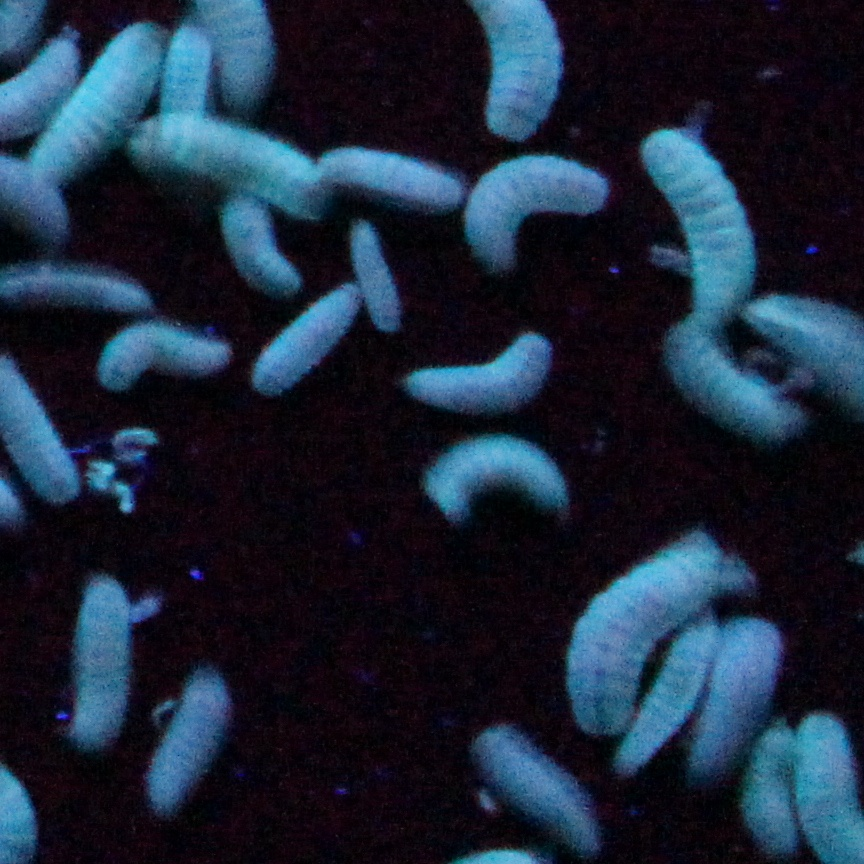larve: (566, 523, 742, 744), (19, 23, 170, 186), (651, 133, 753, 313), (450, 161, 609, 265), (622, 616, 721, 765), (141, 114, 312, 200), (674, 319, 786, 444), (697, 620, 784, 776), (476, 732, 597, 844), (257, 266, 353, 396), (436, 433, 563, 512), (412, 332, 546, 405), (316, 145, 468, 209), (164, 666, 224, 815), (75, 571, 122, 756), (216, 186, 298, 289), (101, 321, 229, 386), (743, 718, 792, 851), (341, 217, 398, 328)
